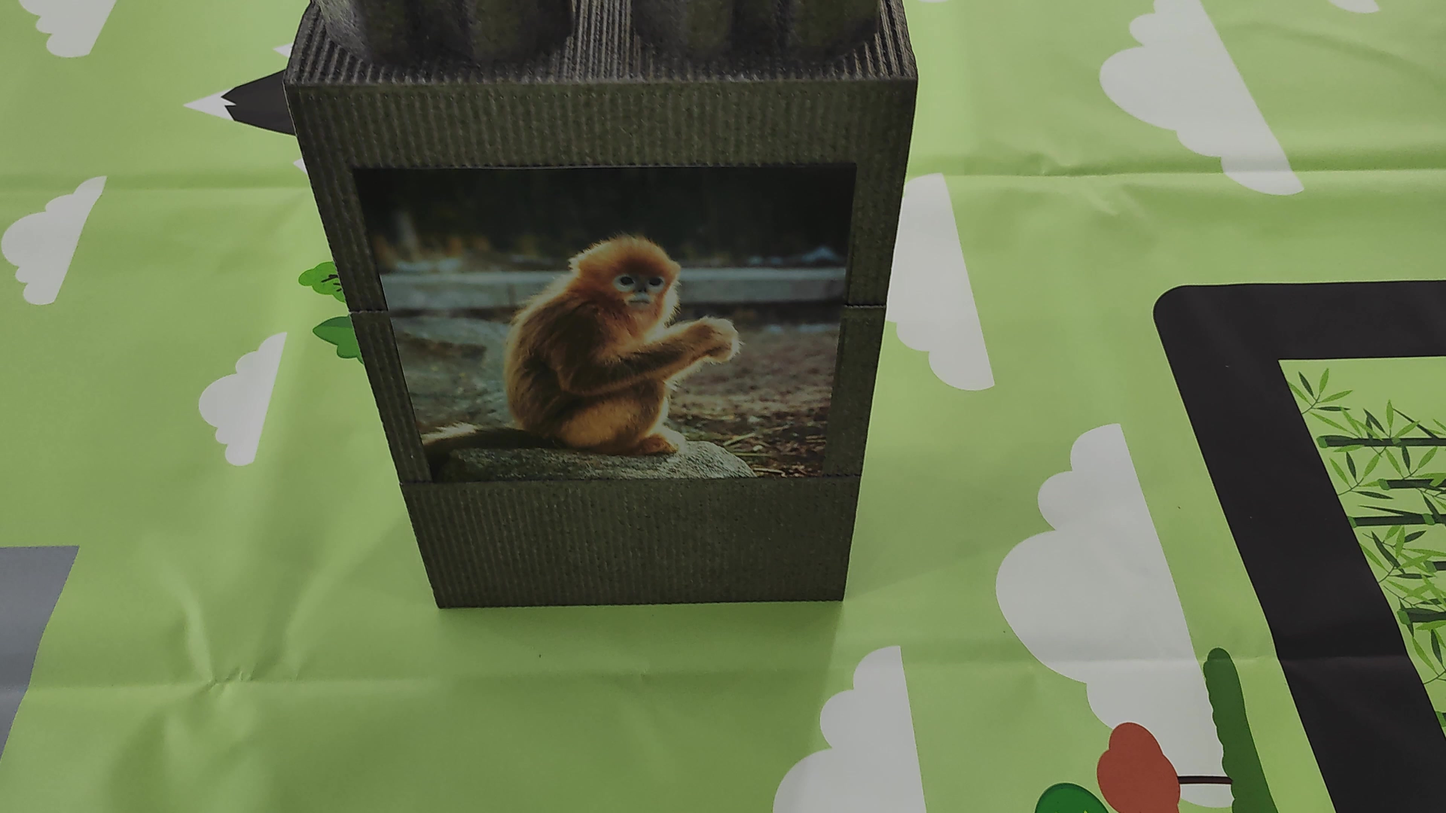monkey: (439, 174, 747, 477)
